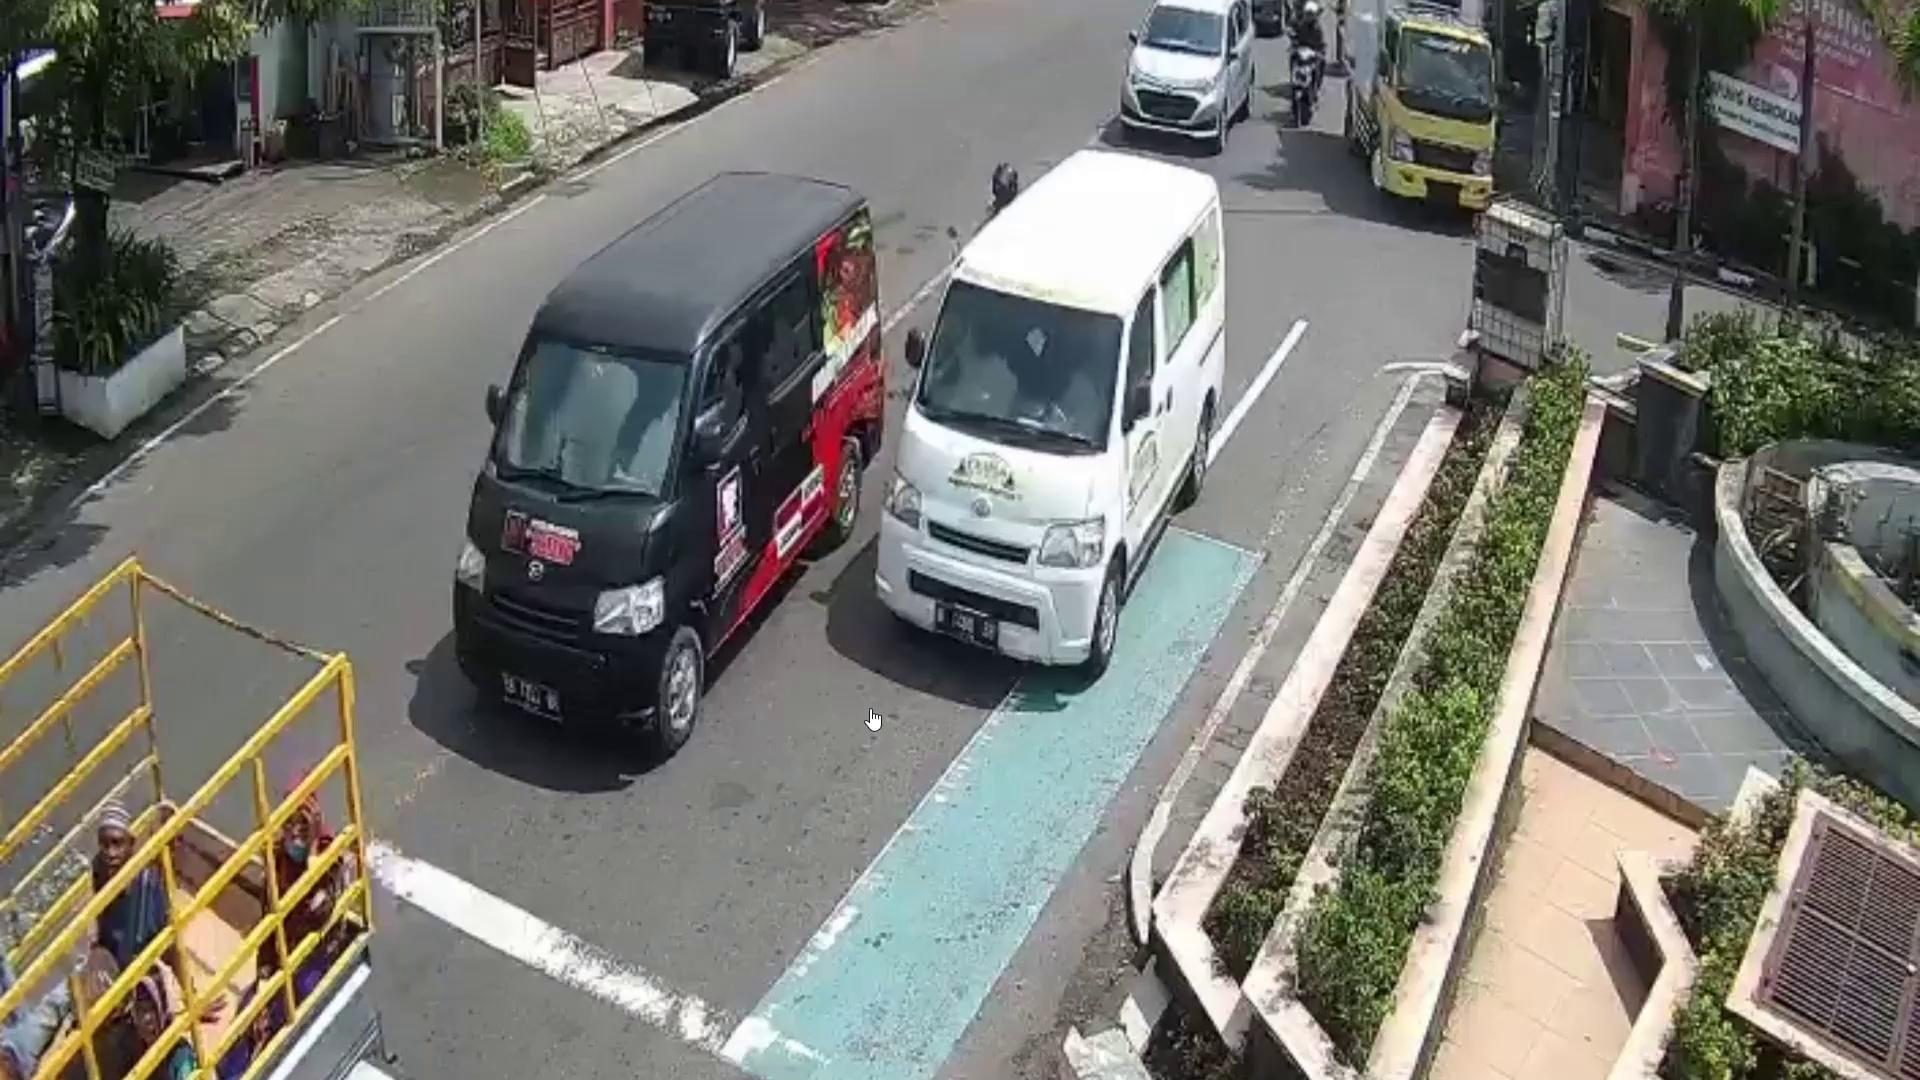car: (459, 171, 884, 753), (877, 148, 1222, 678), (1121, 0, 1255, 158)
truck: (1345, 0, 1494, 222)
